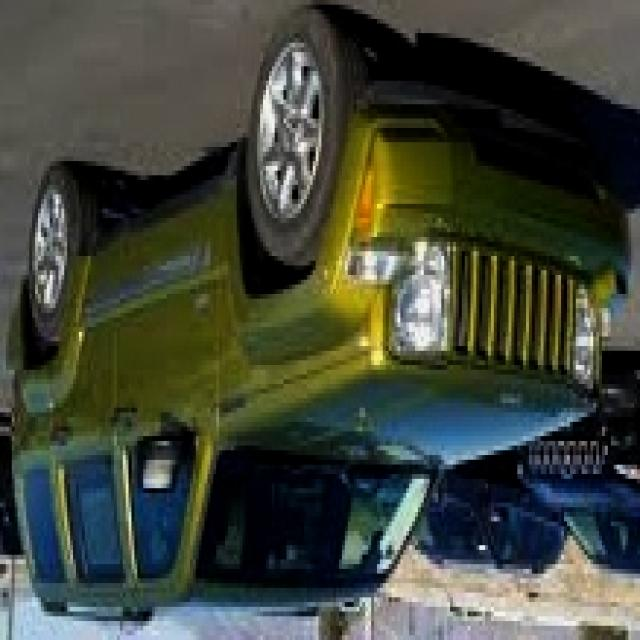green: (0, 1, 628, 622)
